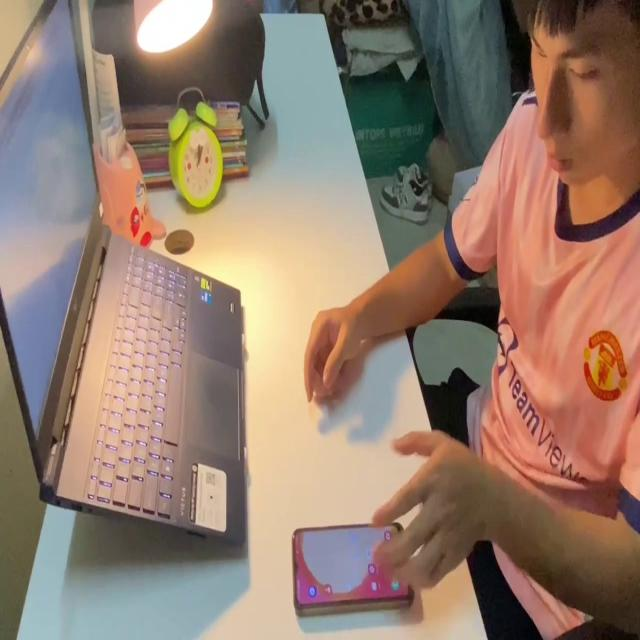laptop: (0, 0, 252, 557)
phone: (291, 519, 417, 614)
student: (299, 0, 640, 640)
